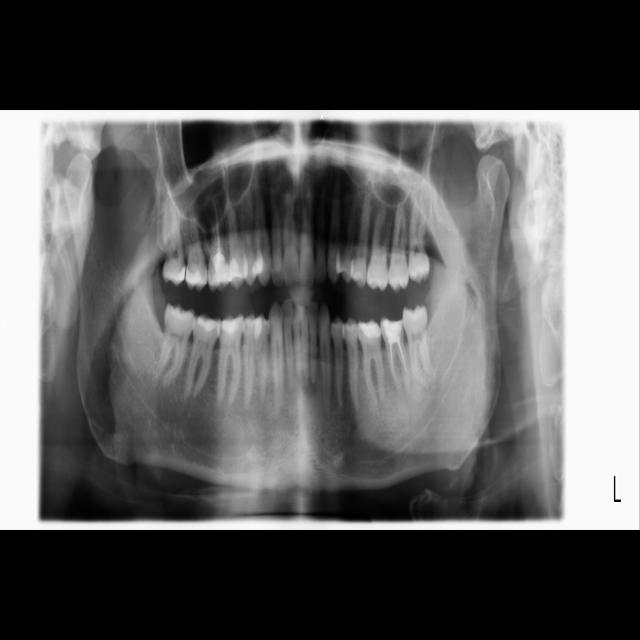mandibula: (62, 153, 510, 492)
